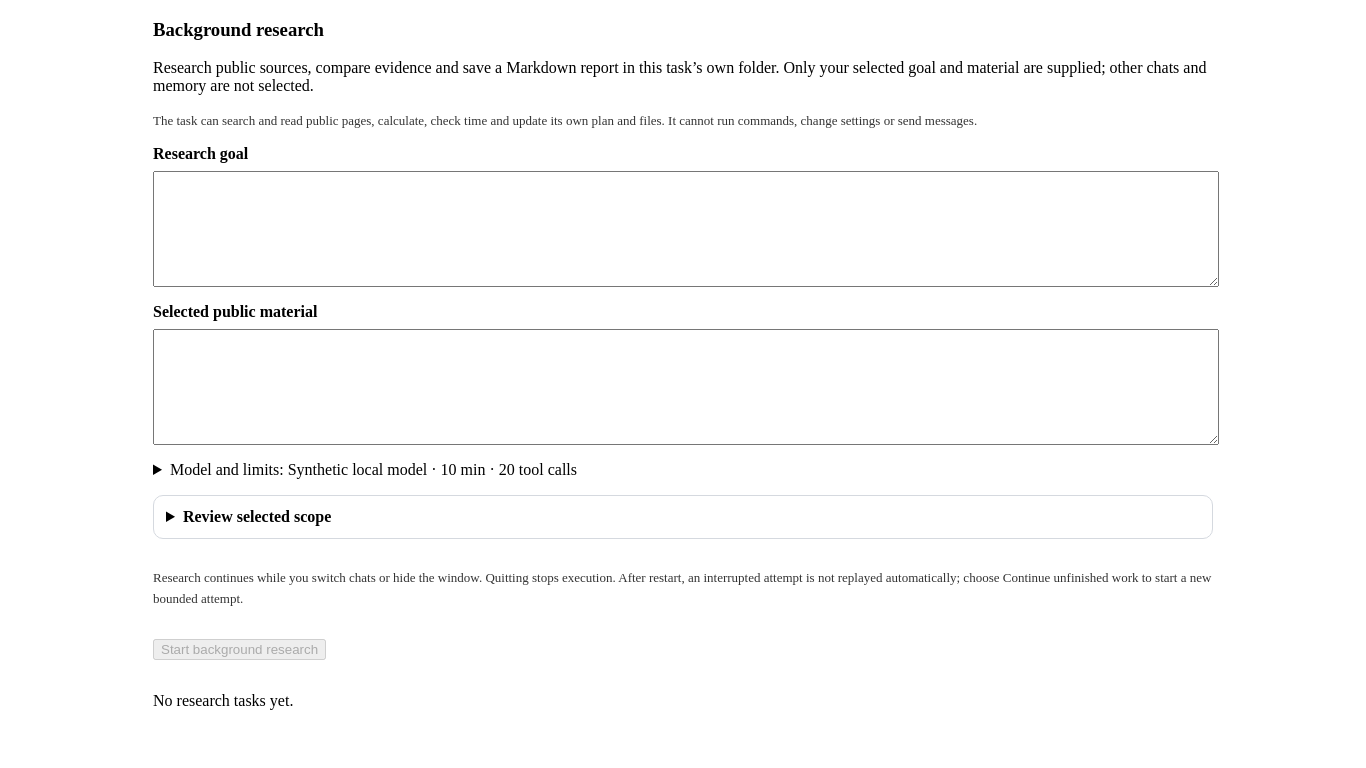
Test: background research UI › blocks form submissions outside the selected minute and tool-call bounds
In the text box labelled "Research goal": (686, 229) [153, 171, 1219, 287], type "Compare public sources"
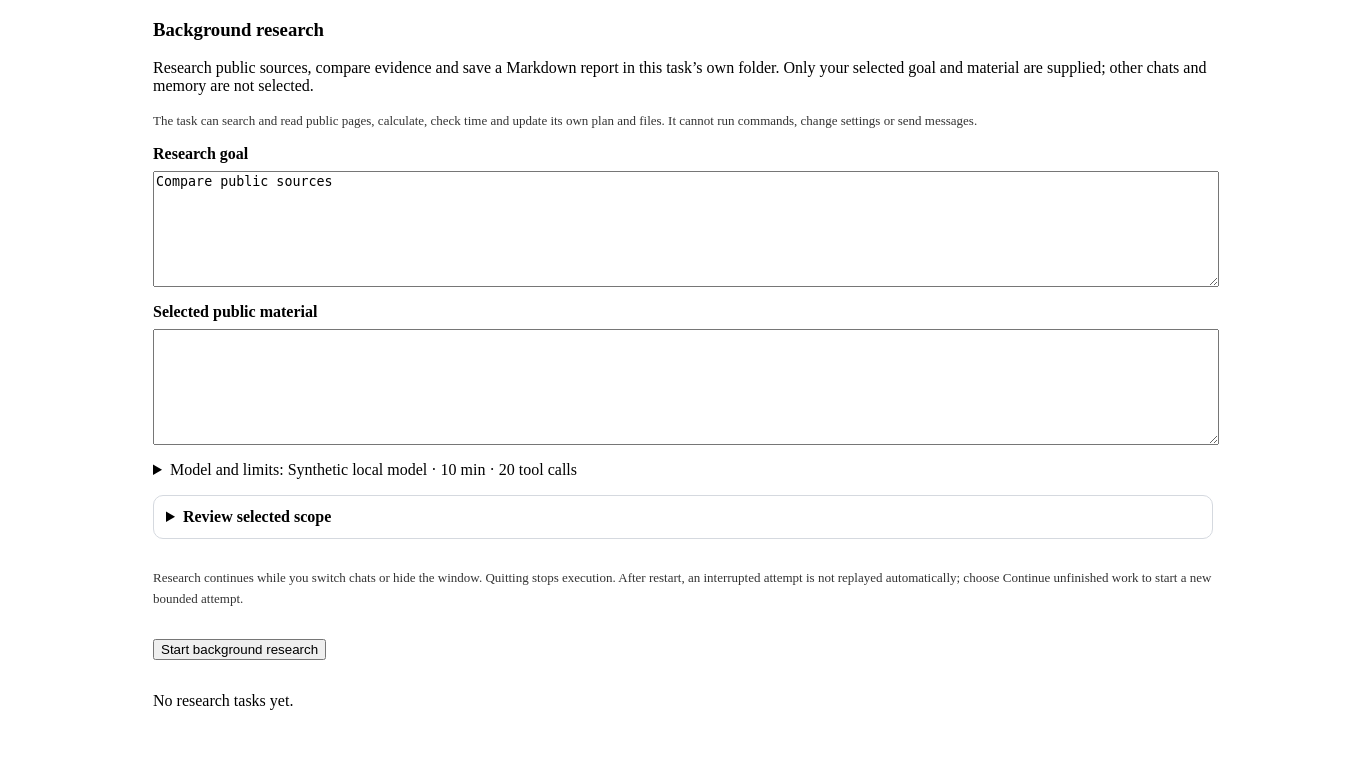
In the text box labelled "Selected public material": (686, 387) [153, 329, 1219, 445], type "SELECTED_PUBLIC_MATERIAL"
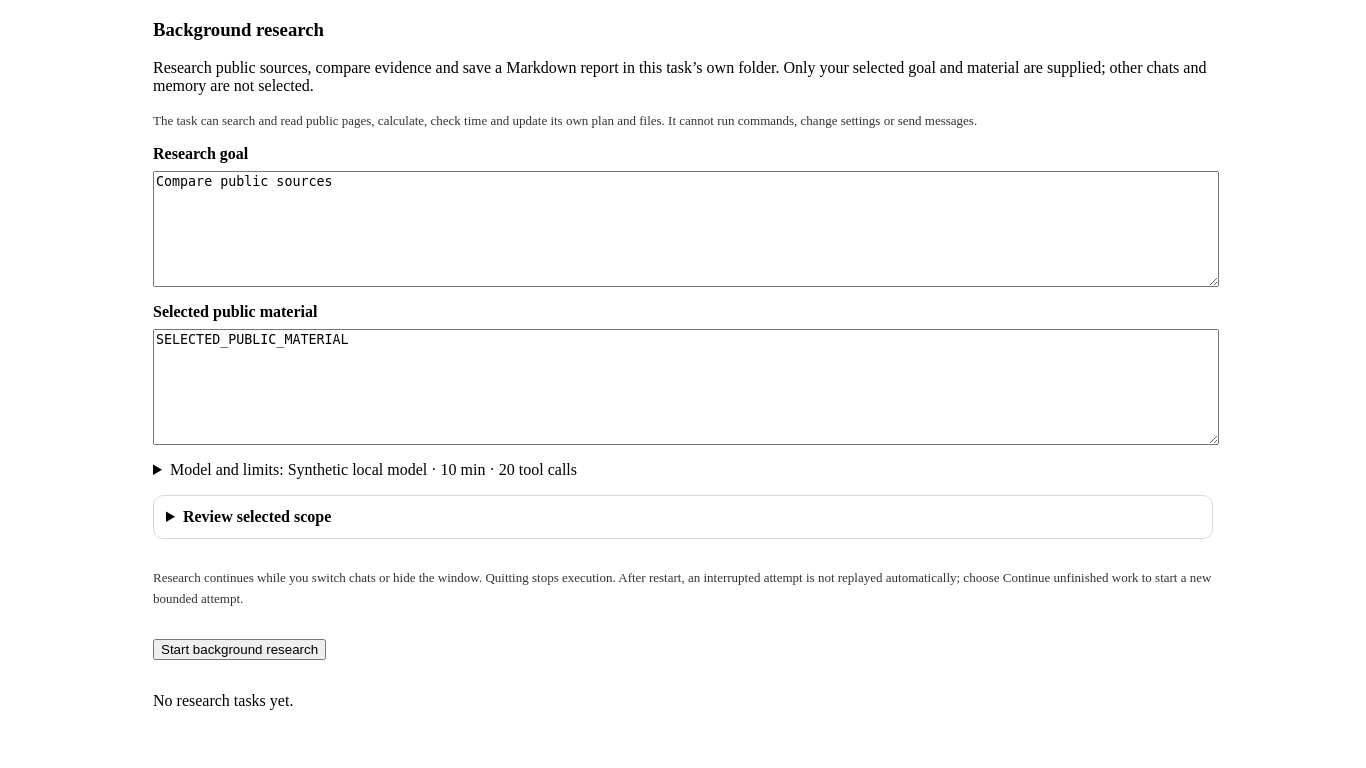
Replace the text in the number field named "Minutes per attempt" with "31": (373, 470) [170, 461, 577, 478]
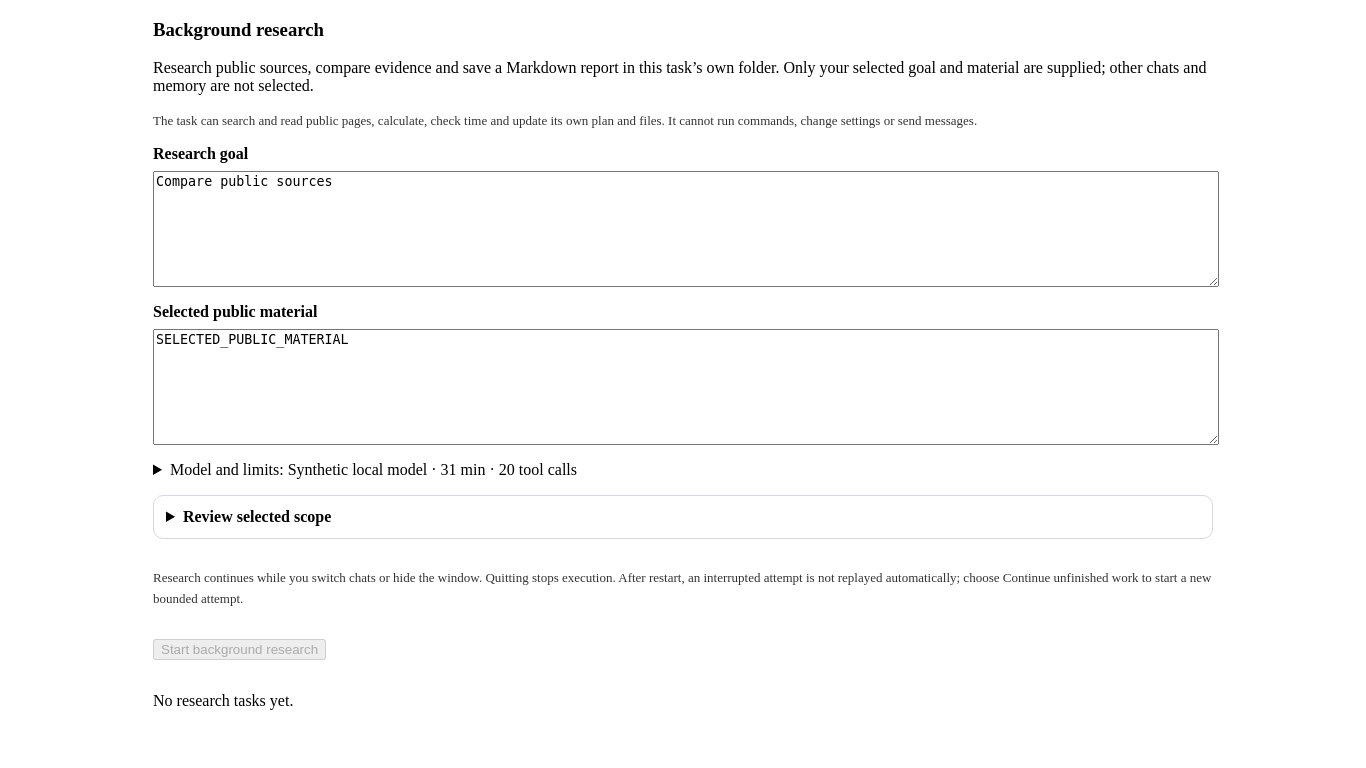
Expected: the button "Start background research" is disabled, [153, 639, 326, 660]
Replace the text in the number field named "Minutes per attempt" with "10": (373, 470) [170, 461, 577, 478]
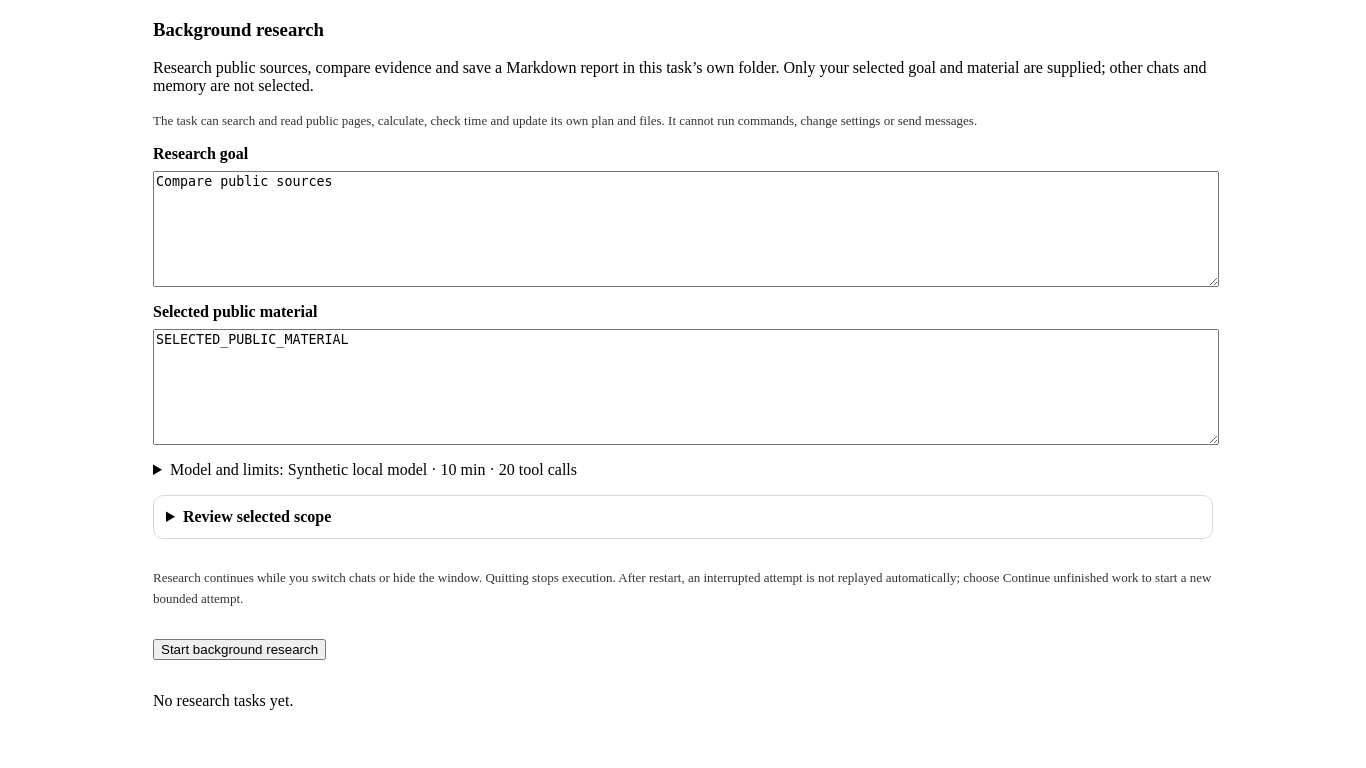
Replace the text in the number field named "Maximum tool calls per attempt" with "3": (373, 470) [170, 461, 577, 478]
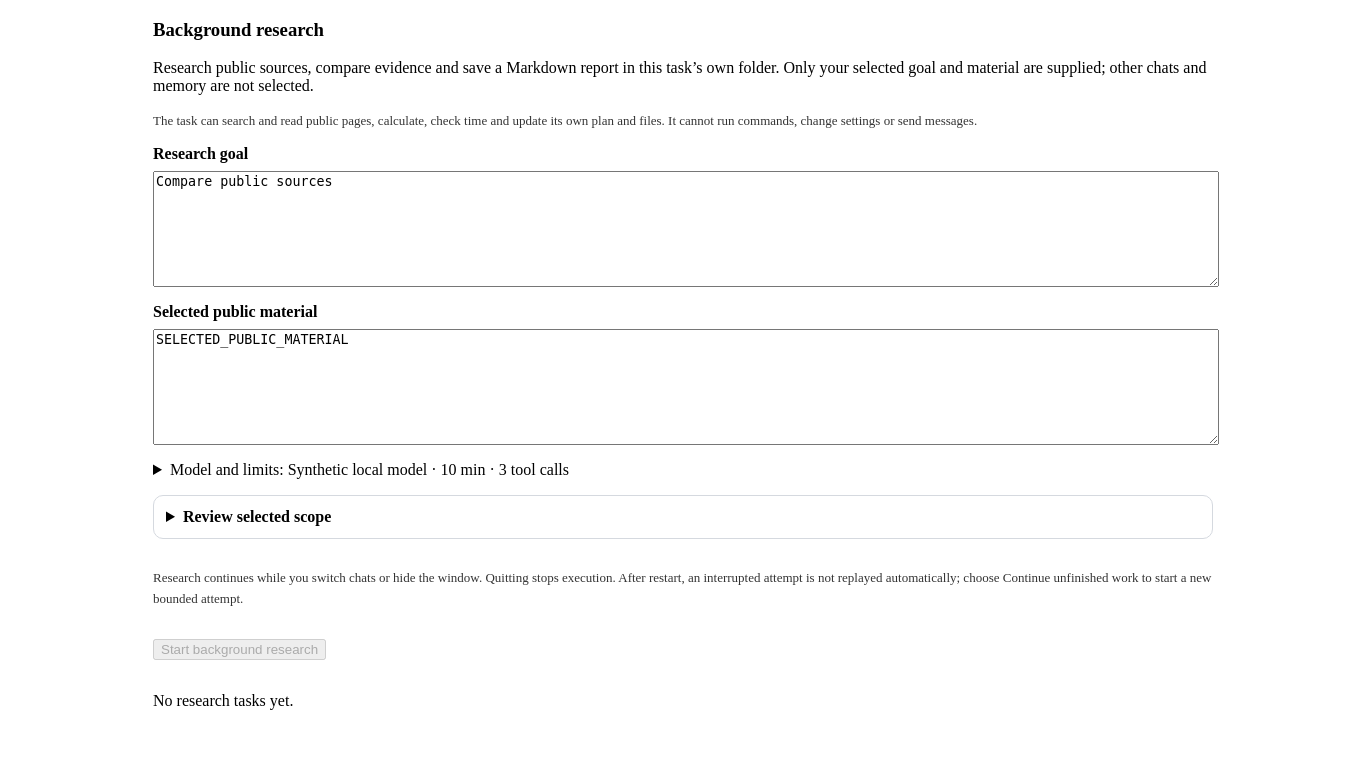
Expected: the button "Start background research" is disabled, [153, 639, 326, 660]
